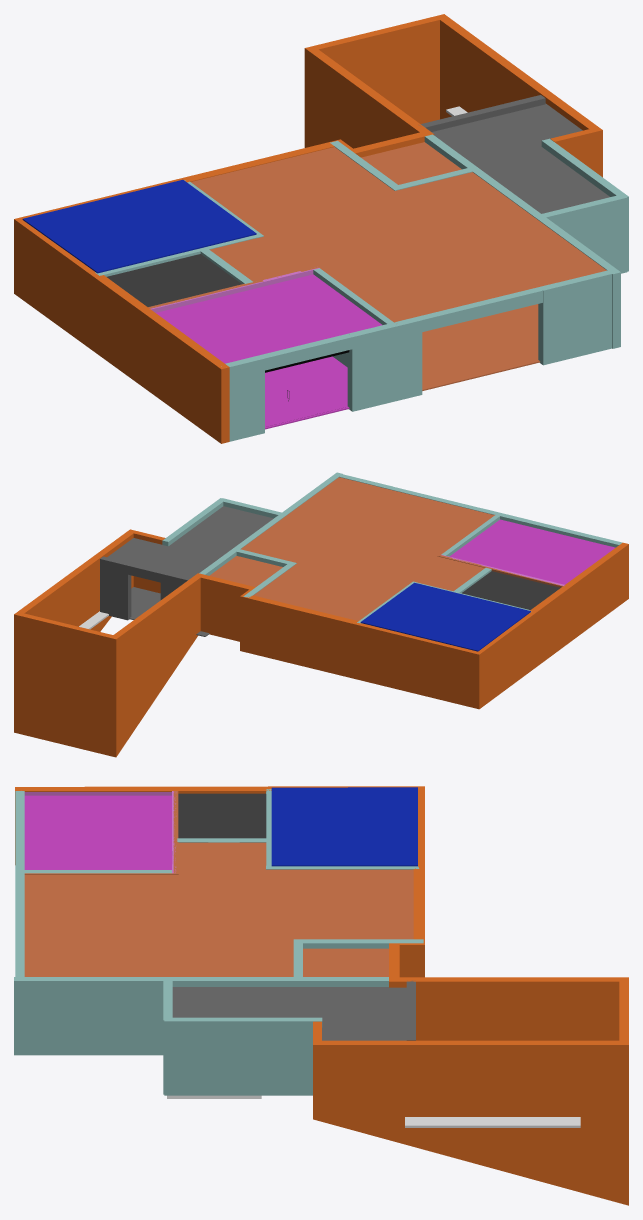
File: Tutorial.FBX
The picture shows the model from 3 angles, top to bottom: view 1: azimuth 30°, elevation 25°; view 2: azimuth 150°, elevation 25°; view 3: azimuth 270°, elevation 25°; orthographic projection. The views are drawn at different scales.
Visible parts, largest first — view 1: Line001, Line2098, Line2101, Line2099, Line2103, Line043, Line2092, Line045, Line2095, Line2100, Line025, Line2102 (+9 smaller); view 2: Line001, Line2098, Line2101, Line2099, Line2103, Line072, Line2100, Line2102, Line023, Line2090, Line026, Line046 (+3 smaller); view 3: Line001, Line2098, Line023, Line026, Line2101, Line2099, Line2103, Line2100, Line2102, Box006, Line031, Line040 (+5 smaller).
Boxes of the visible parts, box(x1,y1,x2,y2) form: Line001: box(14, 14, 602, 443); Line2098: box(191, 147, 606, 321); Line2101: box(22, 179, 256, 273); Line2099: box(156, 274, 382, 363); Line2103: box(432, 103, 609, 213); Line043: box(391, 270, 612, 401); Line2092: box(422, 304, 540, 390); Line045: box(221, 324, 395, 441); Line2095: box(265, 356, 349, 429); Line2100: box(107, 254, 241, 306); Line025: box(538, 194, 627, 273); Line2102: box(361, 142, 461, 184); Line001: box(14, 529, 628, 757); Line2098: box(241, 477, 493, 620); Line2101: box(360, 582, 530, 651); Line2099: box(450, 519, 615, 584); Line2103: box(107, 506, 273, 577); Line072: box(100, 556, 190, 620); Line2100: box(462, 571, 560, 609); Line2102: box(209, 556, 282, 587); Line023: box(231, 472, 342, 551); Line2090: box(129, 587, 209, 636); Line026: box(162, 498, 225, 546); Line046: box(514, 519, 605, 544); Line001: box(15, 786, 628, 1205); Line2098: box(24, 842, 413, 976); Line023: box(14, 977, 302, 1055); Line026: box(164, 1017, 322, 1095); Line2101: box(271, 787, 417, 866); Line2099: box(24, 795, 172, 869); Line2103: box(172, 987, 406, 1040); Line2100: box(178, 793, 266, 838); Line2102: box(303, 948, 388, 976); Box006: box(405, 1117, 580, 1127); Line031: box(299, 939, 423, 948); Line040: box(293, 977, 388, 986).
Bounding box in the file's own units: 484 × 137 × 470.
